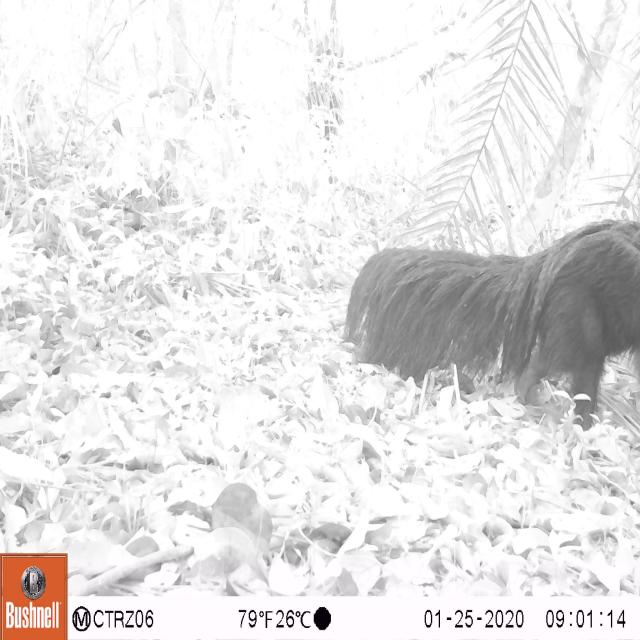Giant Anteater: (336, 218, 640, 434)
